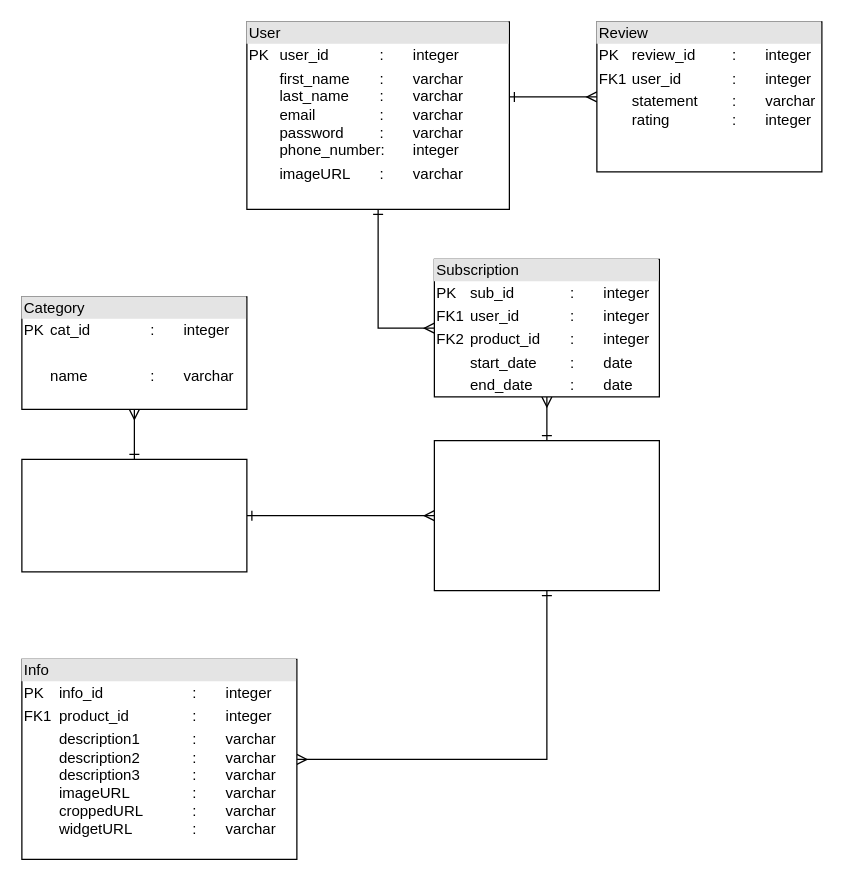
The diagram is 844 pixels wide and 881 high, and some of its shapes have lost their labels. The centre of each missing label's shape, as x and y in pixels:
"Product PK product_id : integer name : varchar price : integer" belongs at (x=546, y=515).
"Product_Category FK1 cat_id : integer FK2 product_id : integer" belongs at (x=134, y=515).
